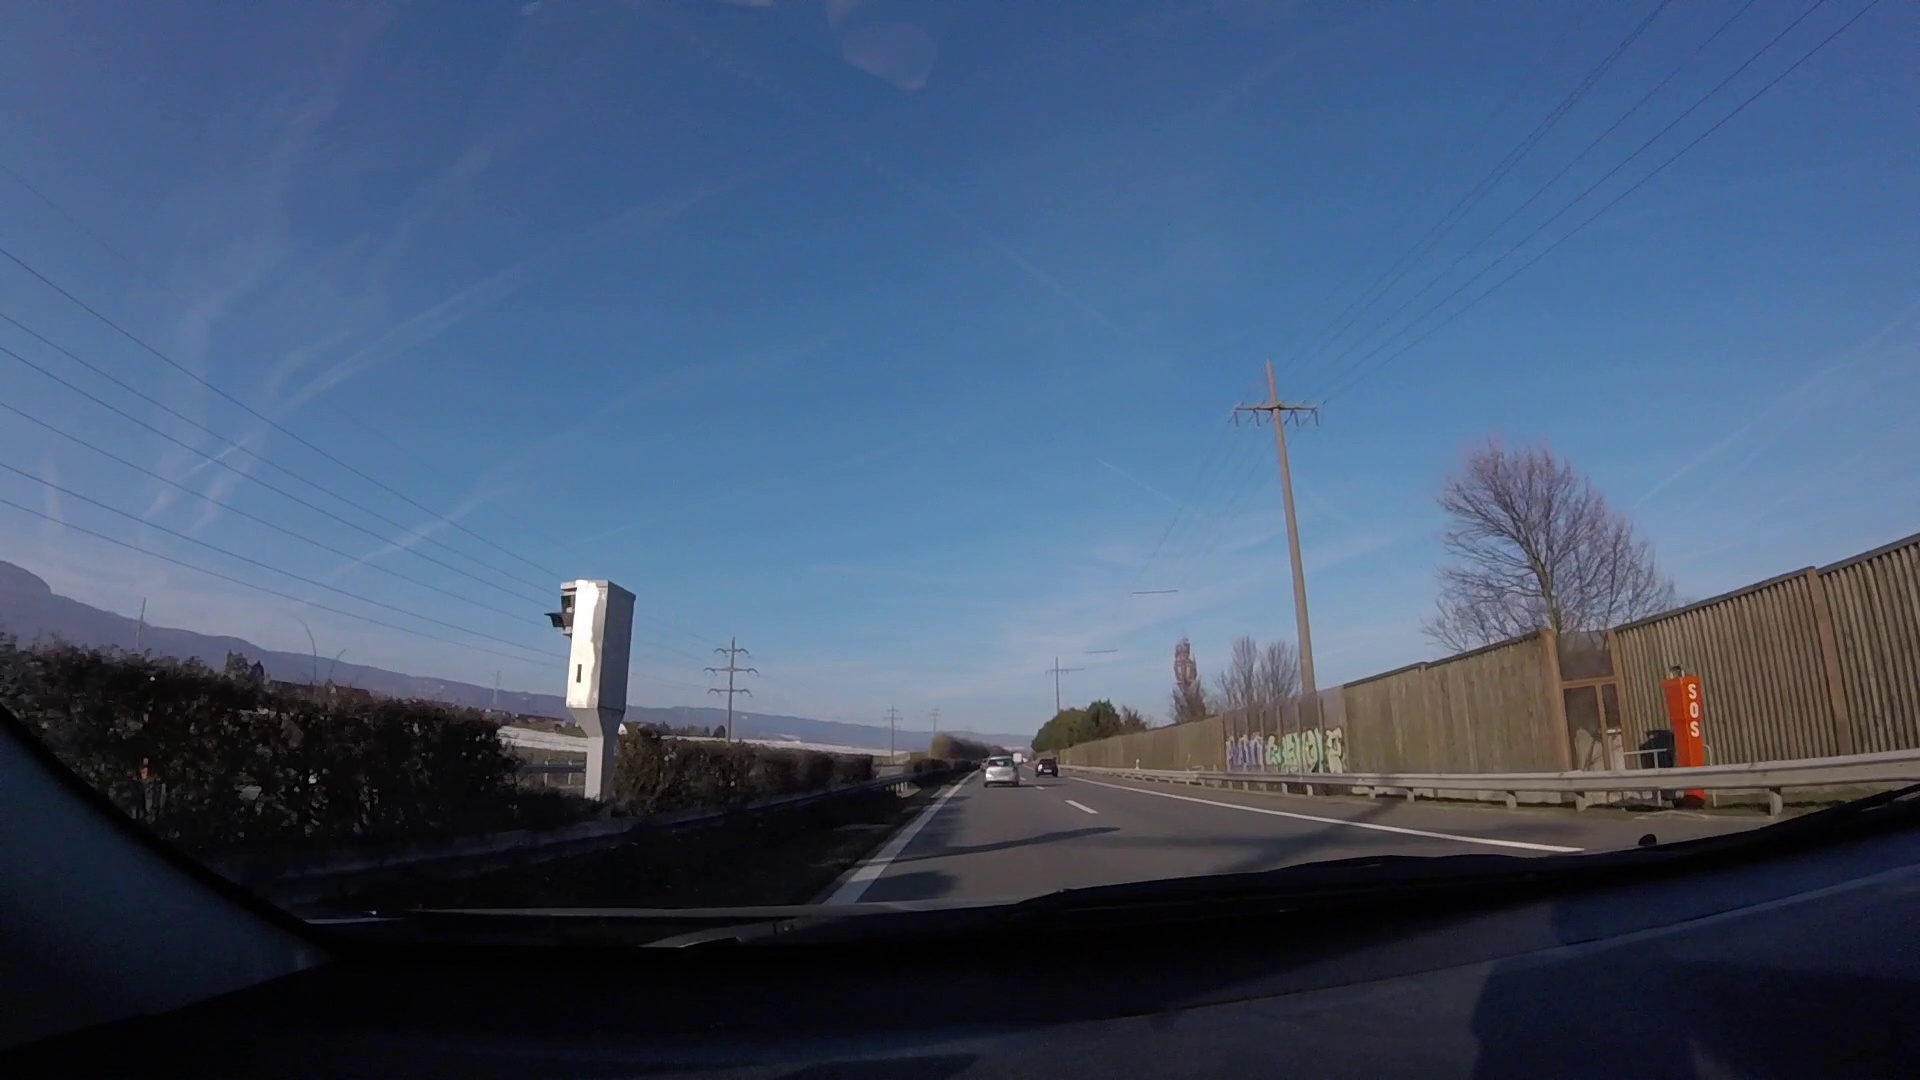radar: (545, 578, 642, 806)
